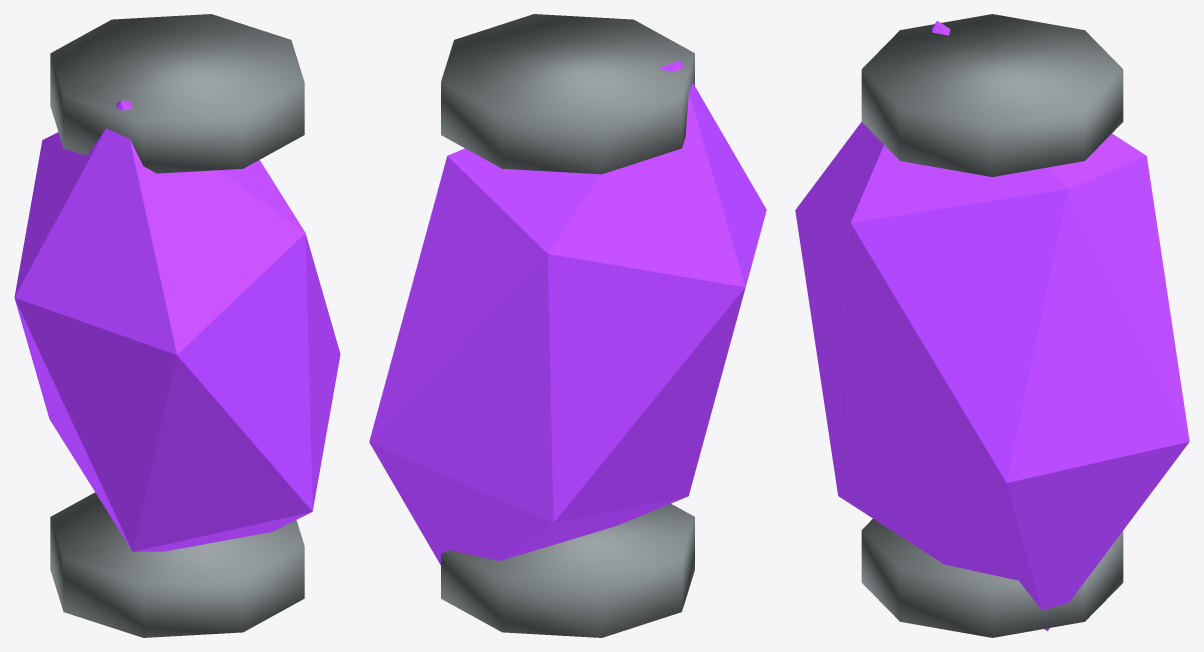
Rendered from magnet.glb.
The picture shows the model from 3 angles, left to right: view 1: azimuth 30°, elevation 25°; view 2: azimuth 150°, elevation 25°; view 3: azimuth 270°, elevation 25°; orthographic projection.
Visible parts, largest first — view 1: magnet; view 2: magnet; view 3: magnet.
Boxes of the visible parts, bbox=[...] form: magnet: bbox=[14, 14, 340, 637]; magnet: bbox=[369, 14, 766, 637]; magnet: bbox=[795, 14, 1189, 637].
Size of the model in its own units: 0.5379 by 0.8038 by 0.543.
